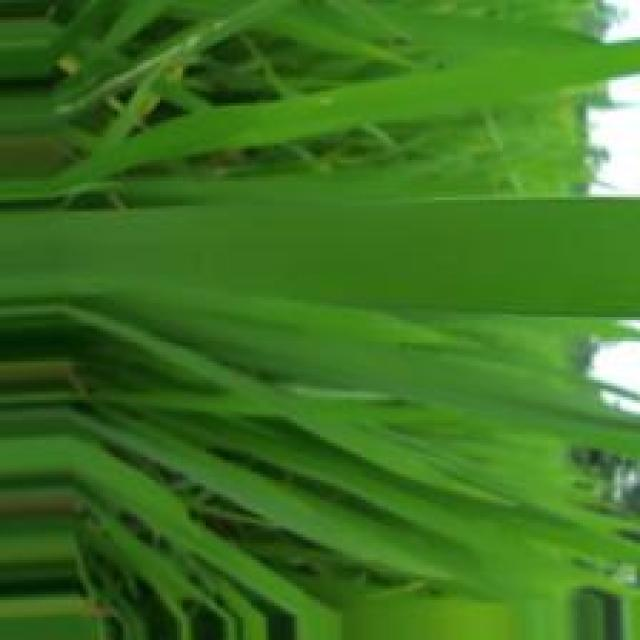HealthyLeaf: (1, 199, 640, 323)
